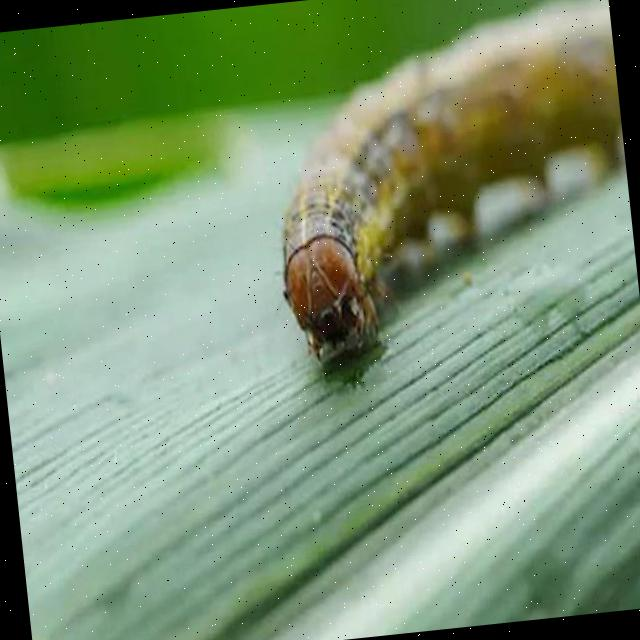worm: (252, 1, 640, 379)
